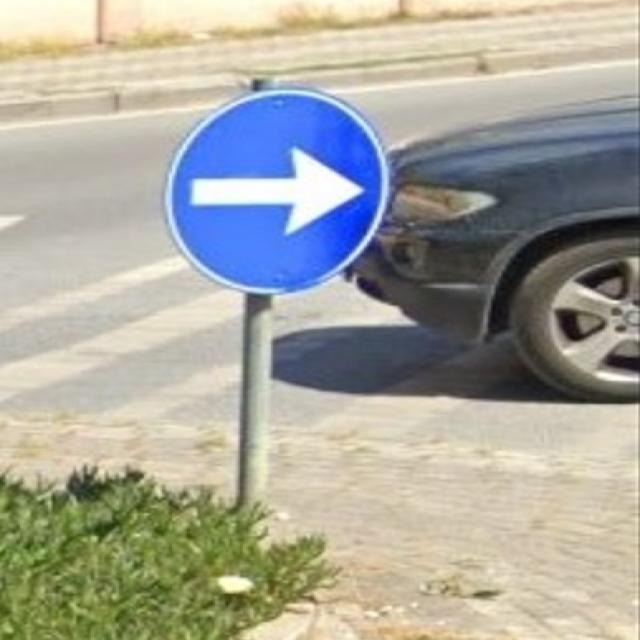Turn Right: (171, 94, 378, 293)
